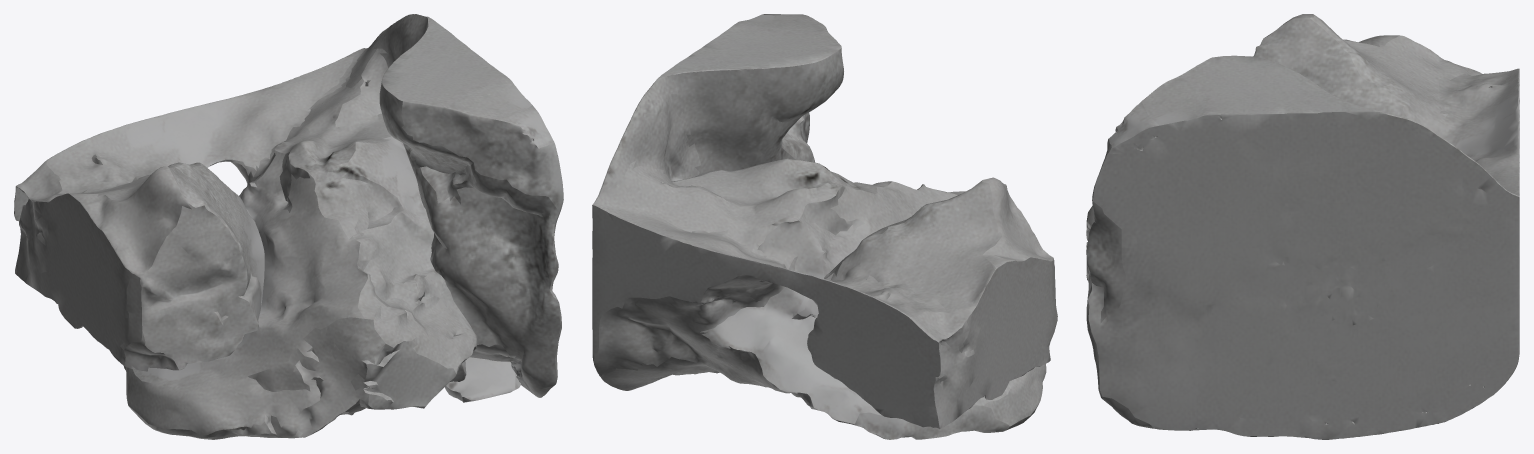
3 views of the same model, side by side, from view 1: azimuth 30°, elevation 25°; view 2: azimuth 150°, elevation 25°; view 3: azimuth 270°, elevation 25° (orthographic). The views are drawn at different scales.
Visible parts, largest first — view 1: world; view 2: world; view 3: world.
Boxes of the visible parts, x1,y1,x2,y2 form: world: [14, 14, 563, 439]; world: [592, 14, 1057, 439]; world: [1086, 14, 1519, 439].
Bounding box in the file's own units: 0.8 × 0.6708 × 0.8008.
1 material, 1 textured.
